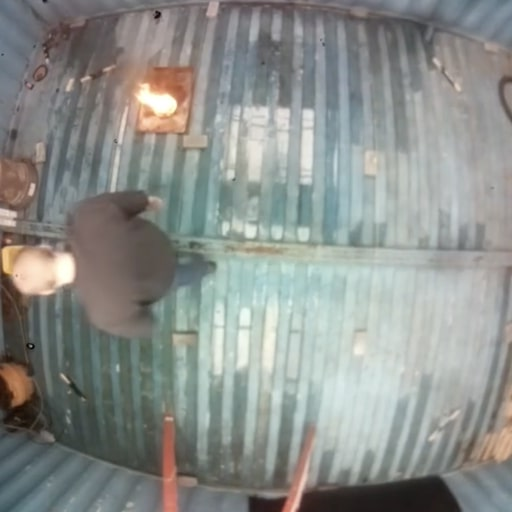Fire: (136, 84, 177, 116)
